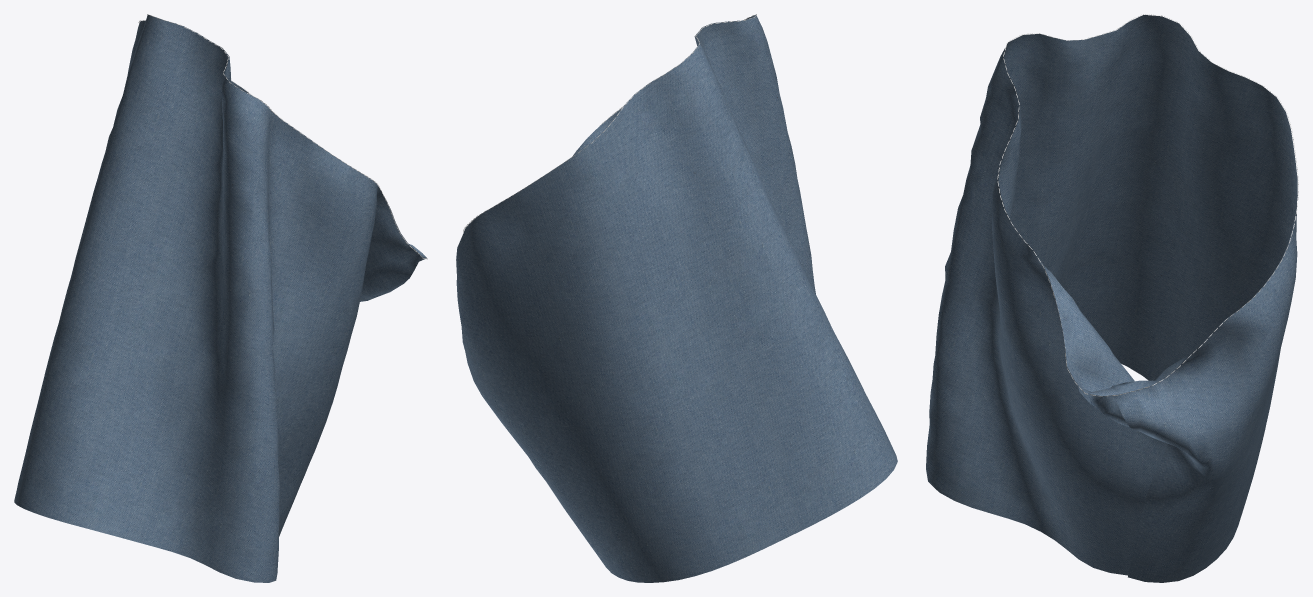
Rendered from sz2youxiusq.glb.
3 views of the same model, side by side, from view 1: azimuth 30°, elevation 25°; view 2: azimuth 150°, elevation 25°; view 3: azimuth 270°, elevation 25° (orthographic). The views are drawn at different scales.
Parts seen in each view (by area): view 1: sz2youxiusq; view 2: sz2youxiusq; view 3: sz2youxiusq, _1.
Boxes of the visible parts, <box> form: sz2youxiusq: <box>14,15,426,582</box>; sz2youxiusq: <box>456,15,897,582</box>; sz2youxiusq: <box>926,15,1297,582</box>; _1: <box>997,14,1298,396</box>.
Bounding box in the file's own units: 1.9 × 2.43 × 1.56.
Materials: 2 (2 with a texture image).
